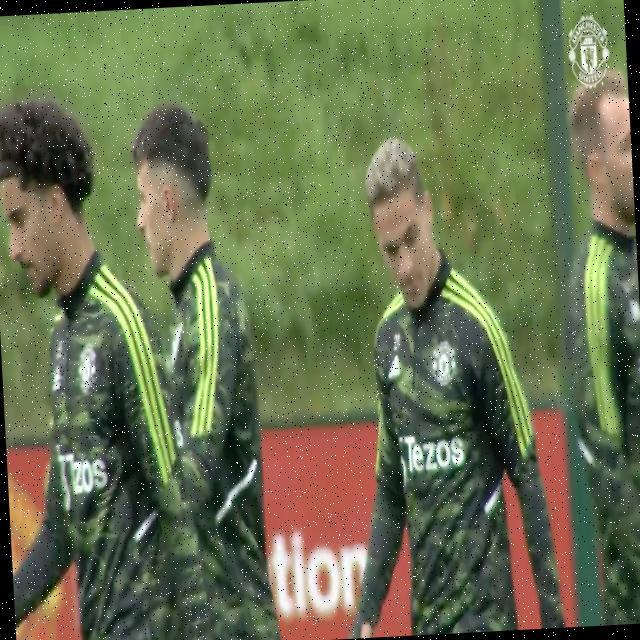Adidas: (387, 354, 403, 383), (50, 363, 64, 392)
